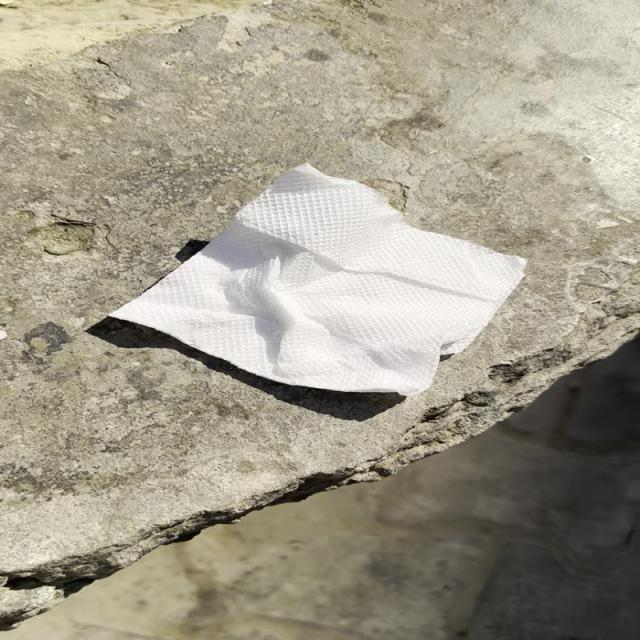tissue: (106, 164, 534, 400)
